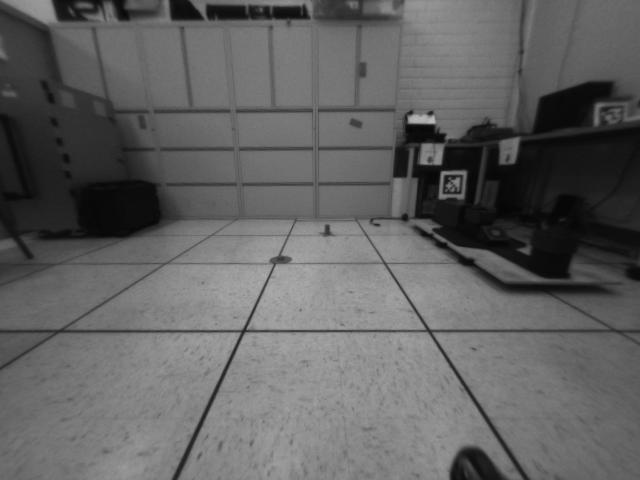X: (319, 222, 337, 235)
